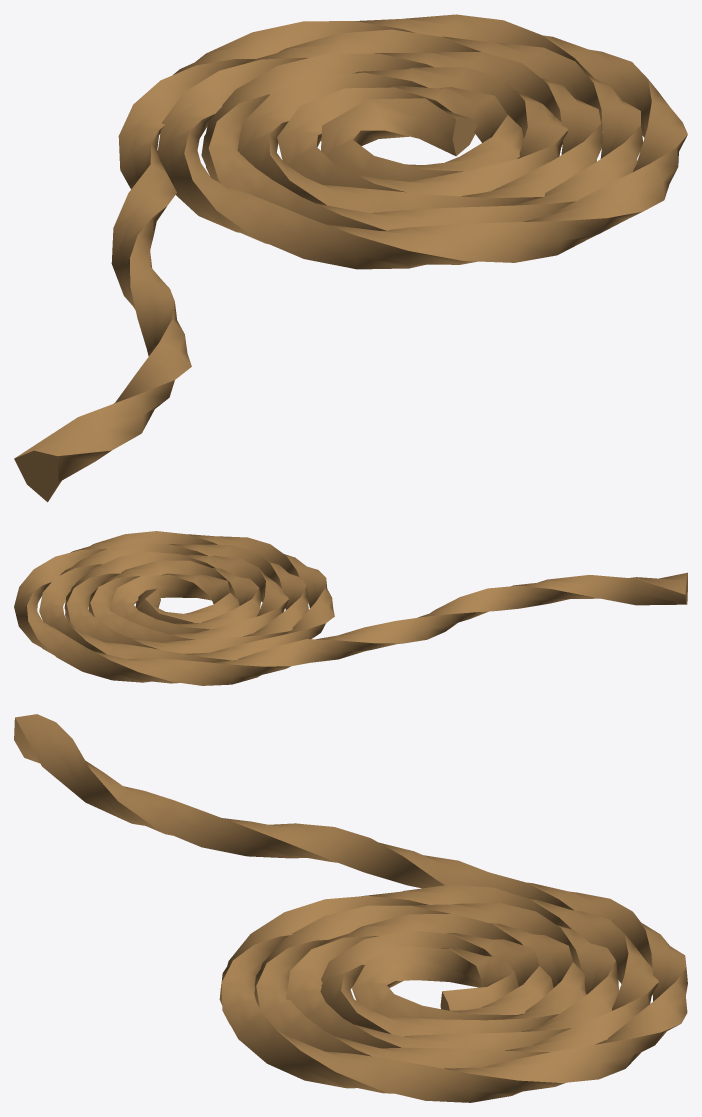
File: coiled-rope_final.glb
The picture shows the model from 3 angles, top to bottom: view 1: azimuth 30°, elevation 25°; view 2: azimuth 150°, elevation 25°; view 3: azimuth 270°, elevation 25°; orthographic projection. The views are drawn at different scales.
Parts seen in each view (by area): view 1: SM_CoiledRope; view 2: SM_CoiledRope; view 3: SM_CoiledRope.
Boxes of the visible parts, bbox=[...] form: SM_CoiledRope: bbox=[14, 14, 687, 502]; SM_CoiledRope: bbox=[14, 531, 687, 685]; SM_CoiledRope: bbox=[14, 714, 687, 1102].
Size of the model in its own units: 0.5931 by 0.0331 by 0.4675.
